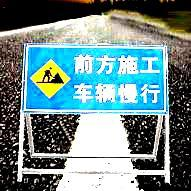sign: (23, 45, 167, 113)
